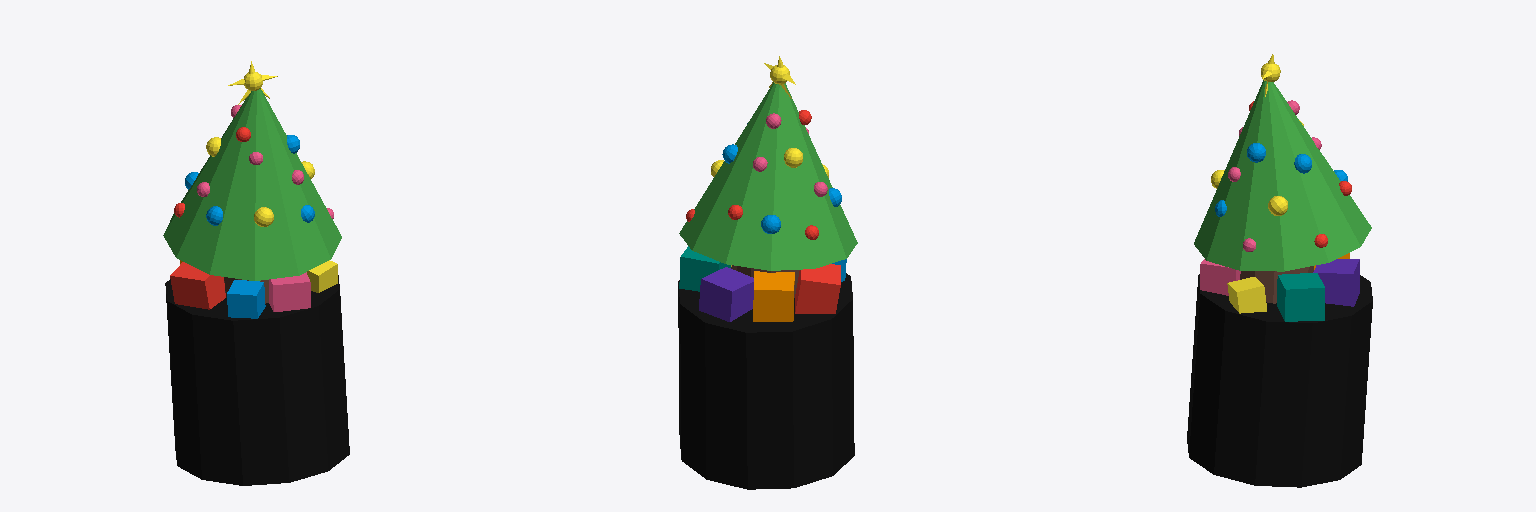
3 renders of one model, left to right at view 1: azimuth 30°, elevation 25°; view 2: azimuth 150°, elevation 25°; view 3: azimuth 270°, elevation 25°, orthographic.
Parts seen in each view (by area): view 1: group[number redacted], group[number redacted], group[number redacted], group[number redacted], group[number redacted], group[number redacted], group[number redacted]; view 2: group[number redacted], group[number redacted], group[number redacted], group[number redacted], group[number redacted], group[number redacted]; view 3: group[number redacted], group[number redacted], group[number redacted], group[number redacted], group[number redacted], group[number redacted], group[number redacted].
Boxes of the visible parts, x1=… form: group[number redacted]: x1=165, y1=275, x2=349, y2=485; group[number redacted]: x1=163, y1=89, x2=341, y2=280; group[number redacted]: x1=170, y1=262, x2=225, y2=309; group[number redacted]: x1=269, y1=272, x2=310, y2=311; group[number redacted]: x1=227, y1=280, x2=265, y2=318; group[number redacted]: x1=307, y1=260, x2=337, y2=292; group[number redacted]: x1=228, y1=61, x2=277, y2=104; group[number redacted]: x1=678, y1=273, x2=854, y2=489; group[number redacted]: x1=679, y1=82, x2=857, y2=270; group[number redacted]: x1=699, y1=267, x2=753, y2=321; group[number redacted]: x1=753, y1=271, x2=794, y2=321; group[number redacted]: x1=795, y1=264, x2=840, y2=313; group[number redacted]: x1=679, y1=246, x2=730, y2=291; group[number redacted]: x1=1187, y1=274, x2=1372, y2=487; group[number redacted]: x1=1194, y1=80, x2=1371, y2=271; group[number redacted]: x1=1277, y1=273, x2=1324, y2=321; group[number redacted]: x1=1313, y1=259, x2=1359, y2=306; group[number redacted]: x1=1227, y1=277, x2=1266, y2=313; group[number redacted]: x1=1200, y1=259, x2=1240, y2=295; group[number redacted]: x1=1240, y1=266, x2=1313, y2=303.
Bounding box in the file's own units: 2.32 × 5.56 × 2.35.